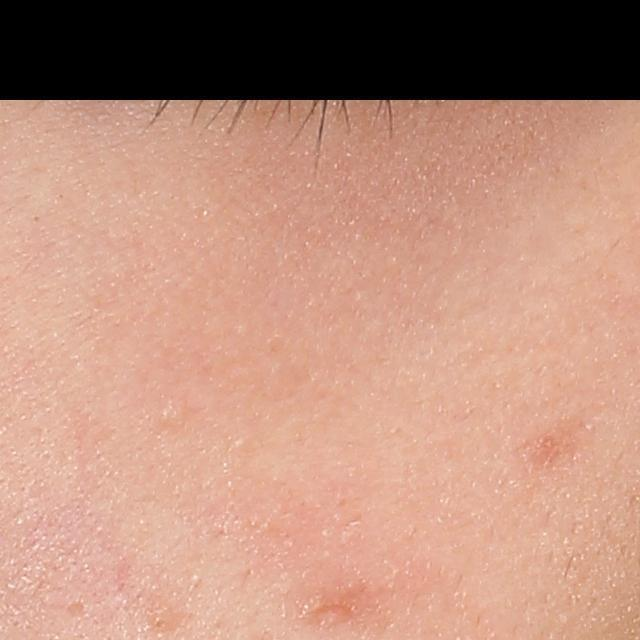atrophic_scar: (61, 600, 89, 618)
comedo: (146, 603, 177, 635)
